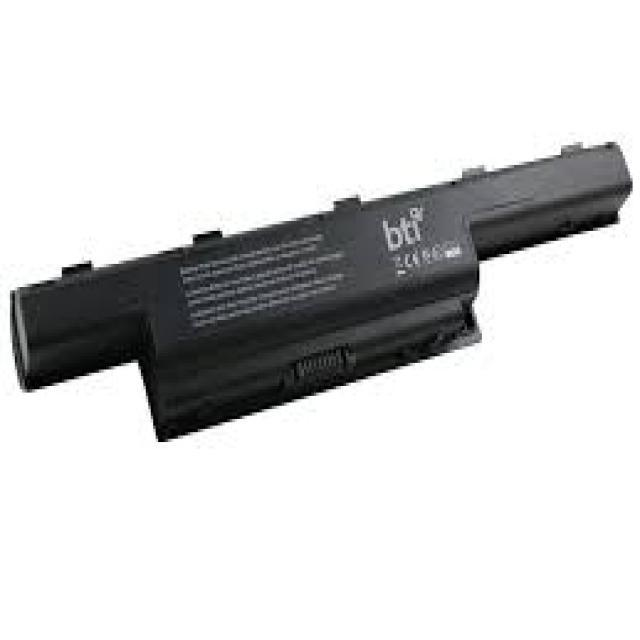Battery: (8, 111, 640, 433)
